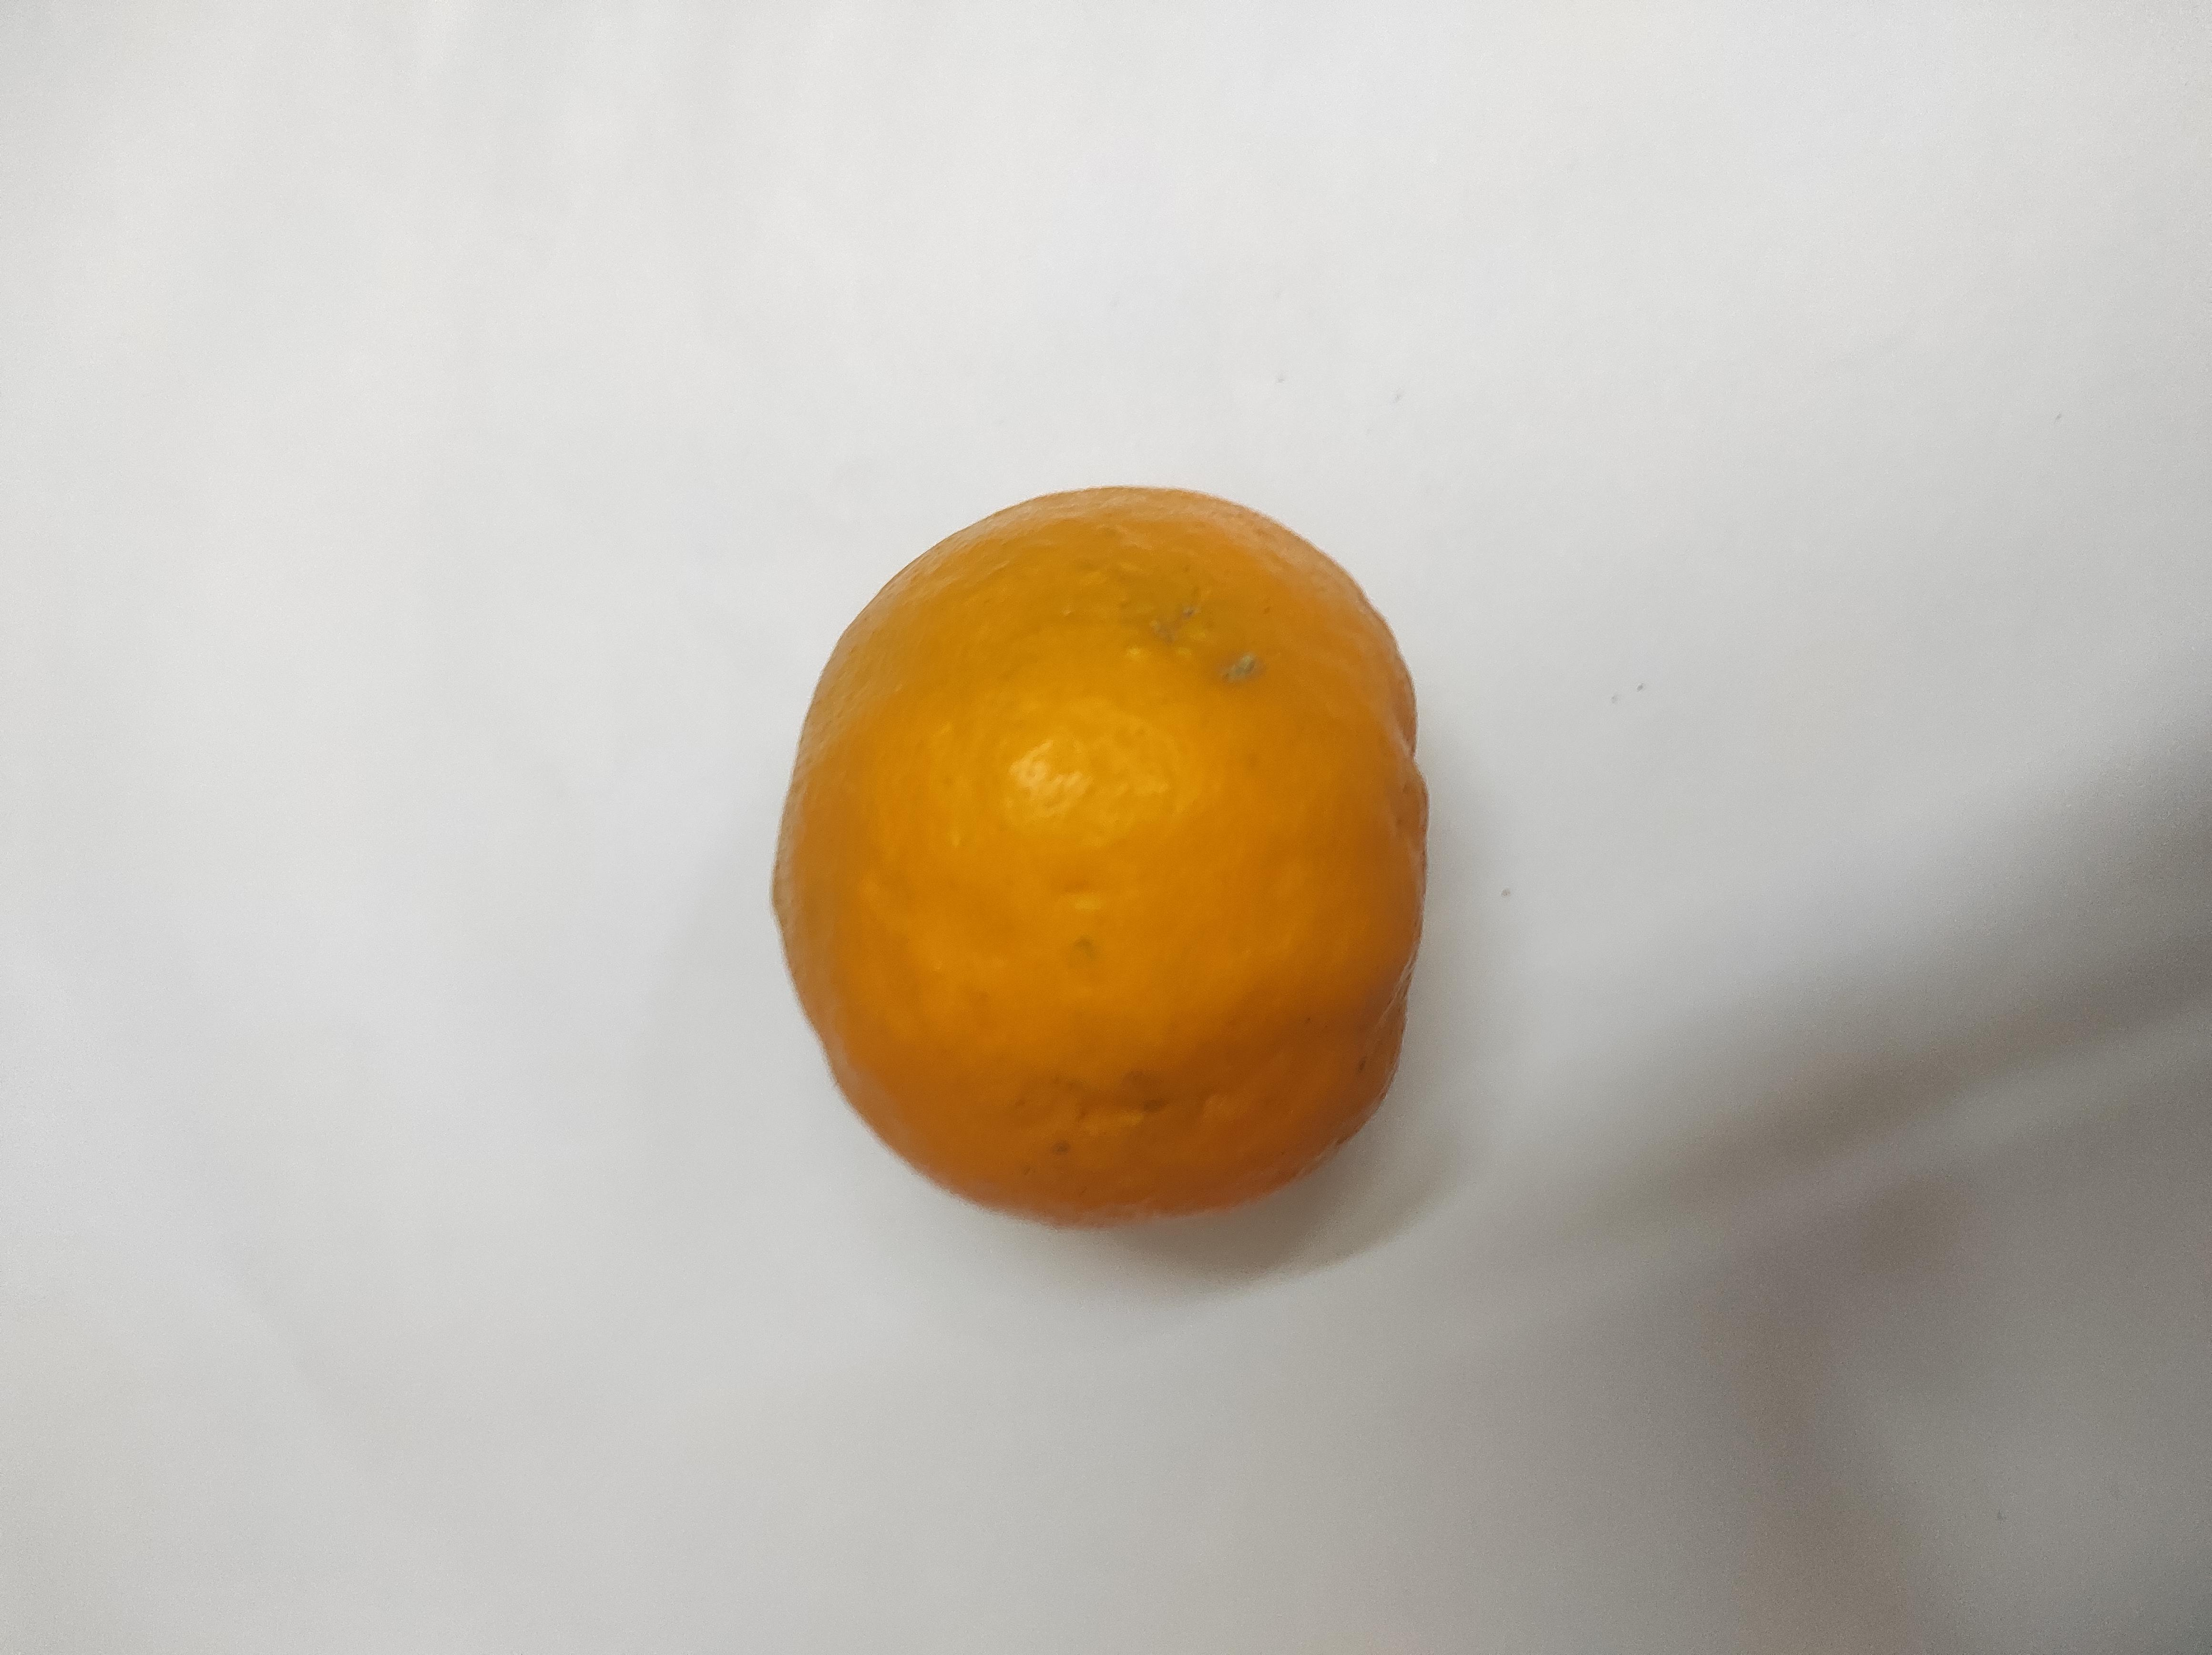Ripe: (767, 476, 1429, 1206)
